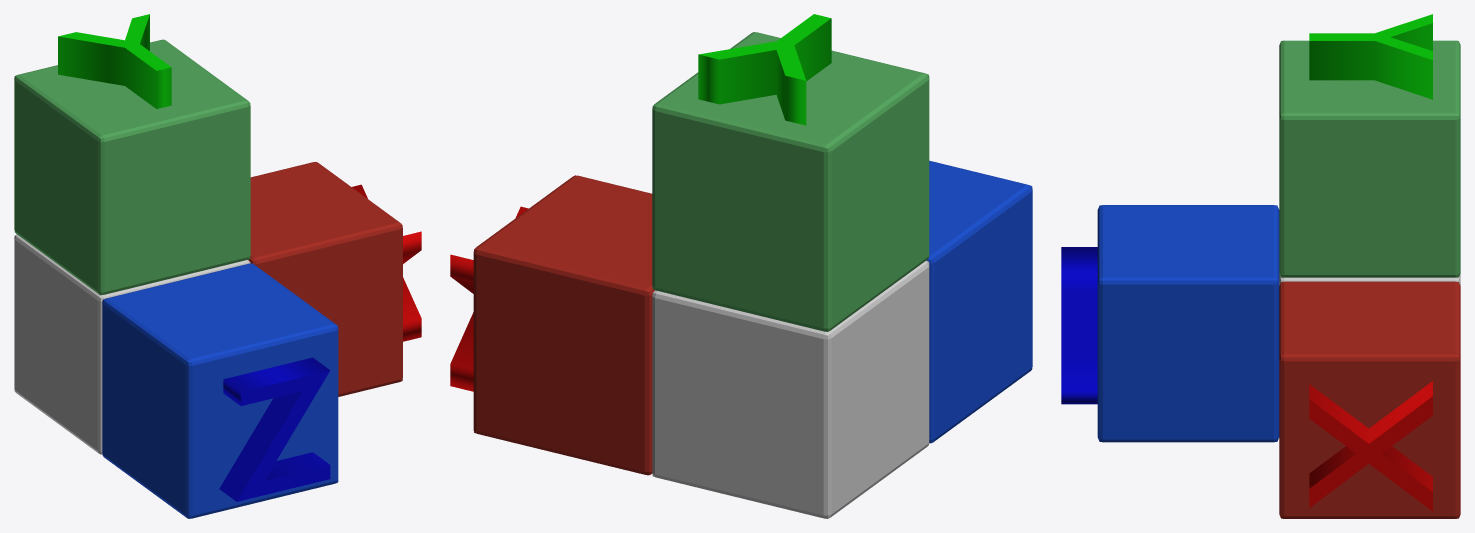
File: XYZ_Blocks.obj
3 views of the same model, side by side, from view 1: azimuth 30°, elevation 25°; view 2: azimuth 150°, elevation 25°; view 3: azimuth 270°, elevation 25° (orthographic). The views are drawn at different scales.
Visible parts, largest first — view 1: cubey, cubez, cubex, cube_center, textz, texty, textx; view 2: cubey, cube_center, cubex, cubez, texty, textx; view 3: cubez, cubey, cubex, textx, texty, textz, cube_center.
Boxes of the visible parts, x1,y1,x2,y2 form: cubey: (14, 39, 250, 295); cubez: (102, 263, 338, 518); cubex: (248, 162, 402, 396); cube_center: (14, 234, 250, 454); textz: (219, 357, 330, 501); texty: (58, 14, 171, 108); textx: (352, 184, 421, 341); cubey: (652, 32, 929, 331); cube_center: (652, 260, 929, 518); cubex: (473, 175, 654, 475); cubez: (926, 160, 1032, 443); texty: (698, 14, 831, 125); textx: (450, 206, 528, 391); cubez: (1097, 205, 1279, 442); cubey: (1279, 40, 1460, 277); cubex: (1279, 281, 1460, 518); textx: (1309, 381, 1432, 511); texty: (1309, 14, 1432, 99); textz: (1061, 247, 1097, 404); cube_center: (1279, 274, 1460, 285).
Size of the model in its own units: 2.17 by 2.21 by 2.16.
